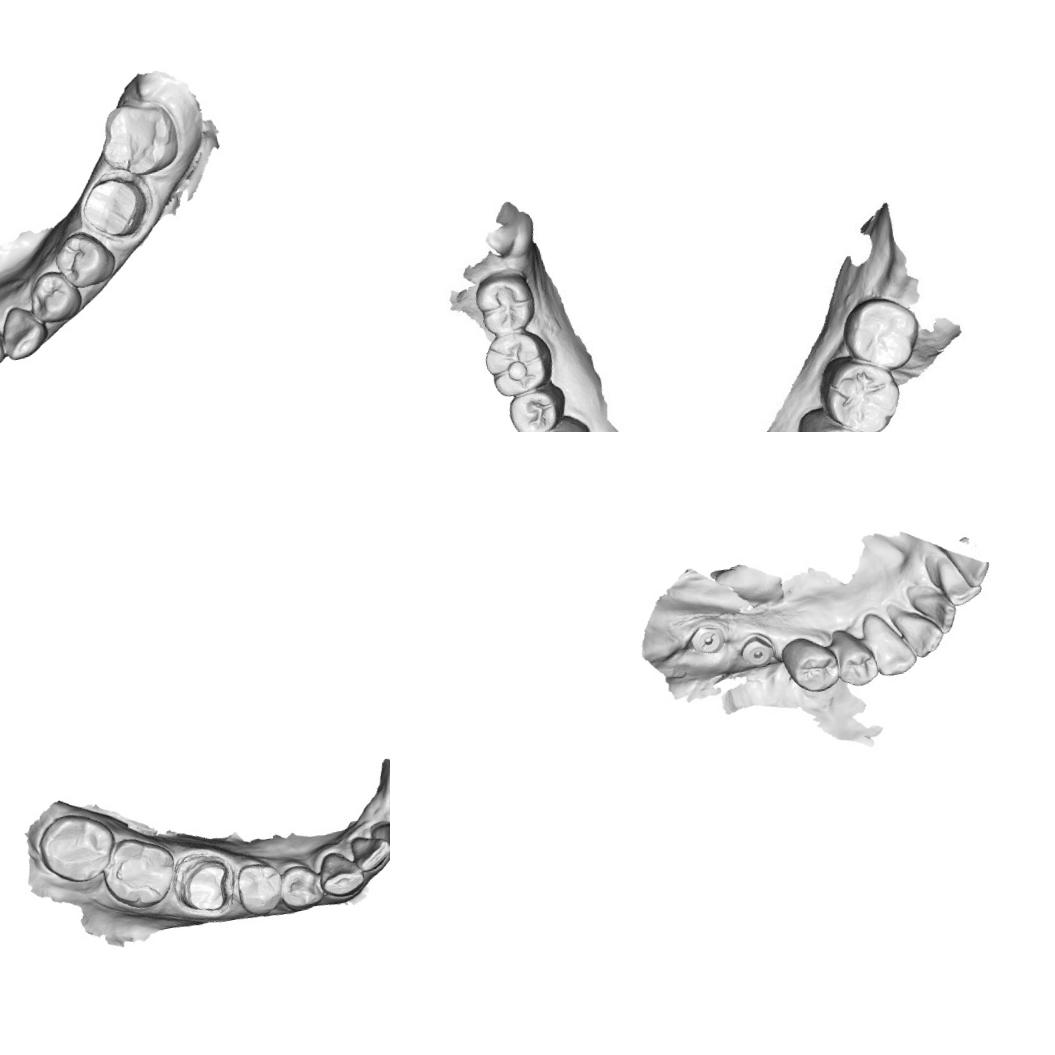canine: (863, 612, 920, 680), (312, 844, 370, 902), (0, 299, 52, 362)
crown: (73, 162, 158, 246), (171, 850, 237, 920)
implant: (734, 626, 781, 672)
implant_minus: (686, 618, 730, 660)
incisor: (889, 604, 946, 664), (931, 548, 986, 608), (908, 586, 960, 641), (344, 826, 390, 876), (367, 815, 390, 862)
molar: (92, 91, 186, 183), (813, 344, 904, 432), (31, 804, 123, 890), (837, 288, 924, 378), (96, 828, 184, 916), (478, 325, 558, 401), (466, 263, 542, 341)
premolar: (48, 224, 120, 293), (774, 628, 842, 699), (24, 262, 90, 328), (230, 856, 288, 919), (830, 629, 882, 691), (505, 383, 566, 432), (274, 858, 326, 915)
